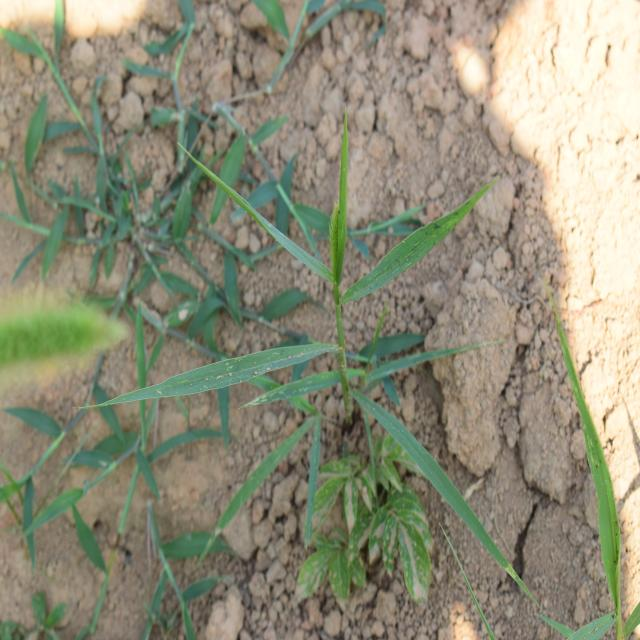green_foxtail: (174, 172, 472, 483)
